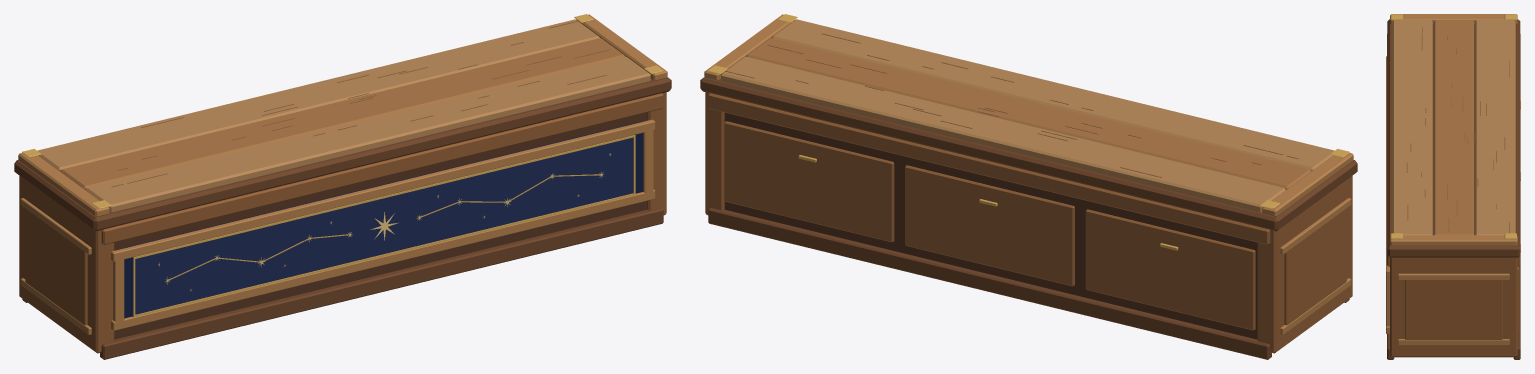
File: counter-model.glb
3 renders of one model, left to right at view 1: azimuth 30°, elevation 25°; view 2: azimuth 150°, elevation 25°; view 3: azimuth 270°, elevation 25°, orthographic. The views are drawn at different scales.
Parts seen in each view (by area): view 1: CounterModel; view 2: CounterModel; view 3: CounterModel.
Part boxes in pixels (left/top/right/bottom): CounterModel: left=14, top=14, right=671, bottom=359; CounterModel: left=700, top=14, right=1357, bottom=359; CounterModel: left=1386, top=14, right=1520, bottom=359.
Size of the model in its own units: 4 by 1 by 0.994.
